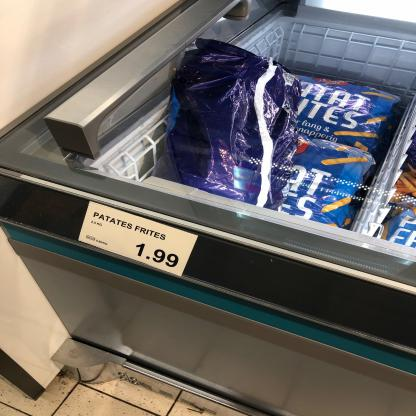prtg: (79, 202, 200, 279)
